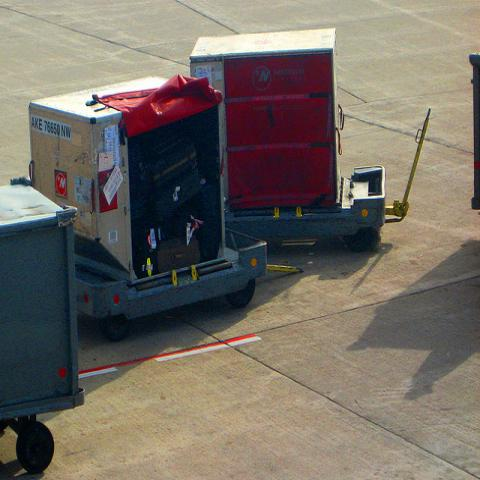truck: (21, 61, 270, 347), (191, 32, 385, 247), (0, 182, 90, 473)
